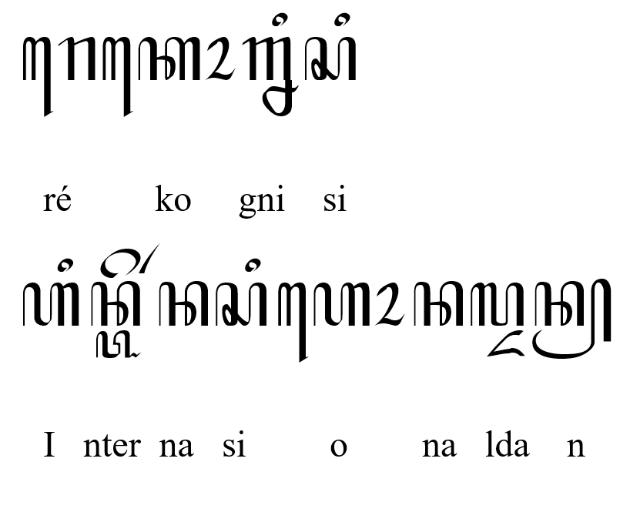-n: (530, 278, 612, 360)
_d: (486, 328, 524, 358)
_r1: (138, 242, 160, 274)
_t: (95, 330, 141, 360)
e: (99, 248, 141, 278)
e1: (277, 282, 309, 364), (101, 36, 132, 118), (22, 36, 52, 118)
gn: (242, 34, 300, 118)
h: (312, 282, 370, 328), (22, 282, 80, 326)
i: (56, 257, 74, 273), (334, 12, 351, 28), (270, 12, 288, 26), (245, 258, 262, 272)
k: (137, 35, 200, 81)
l: (469, 281, 525, 327)
n: (159, 280, 209, 328), (90, 281, 142, 327), (412, 280, 463, 326)
o: (204, 36, 236, 82), (374, 281, 406, 325)
r: (56, 36, 95, 82)
s: (304, 36, 358, 84), (215, 281, 268, 327)
